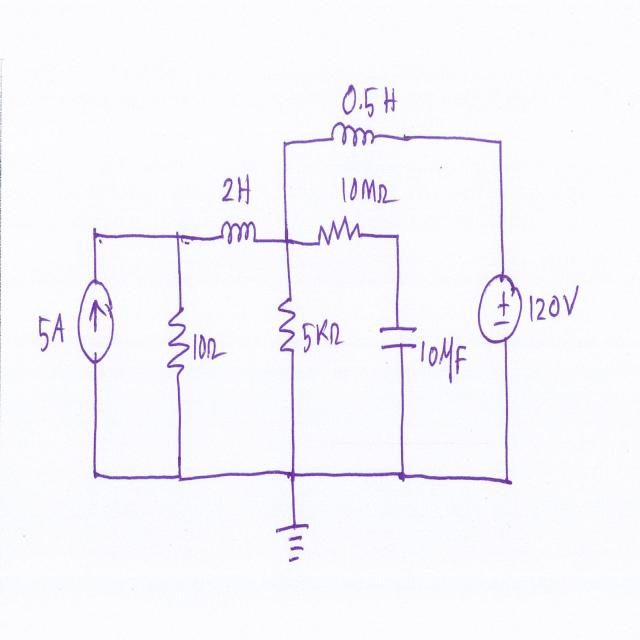capacitor: (375, 313, 419, 359)
current_source: (74, 273, 118, 370)
ground: (276, 517, 316, 574)
inductor: (326, 111, 379, 157), (214, 220, 266, 254)
resistor: (311, 216, 364, 261), (165, 300, 192, 386), (275, 292, 300, 363)
voltage_source: (474, 265, 527, 351)
